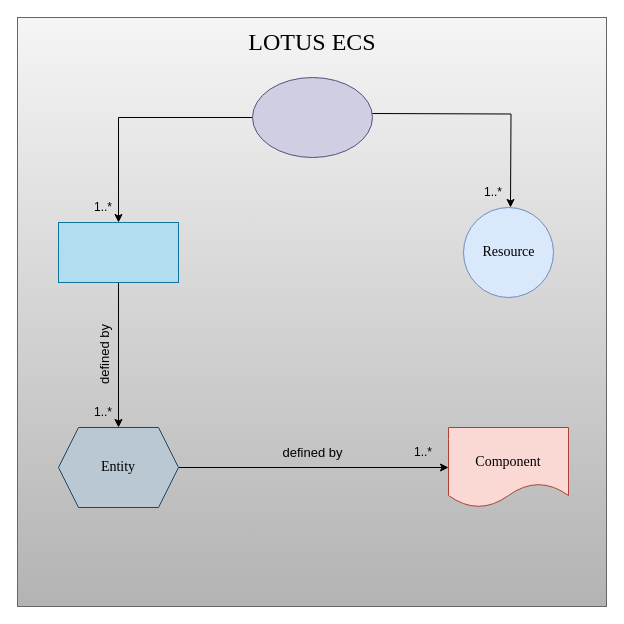
This 624x624 diagram has some shape labels left out. Here are the shapes that lost their labels. From the top down, the box of each, then its label:
(252, 76, 372, 158): World
(58, 222, 178, 282): Archetype
